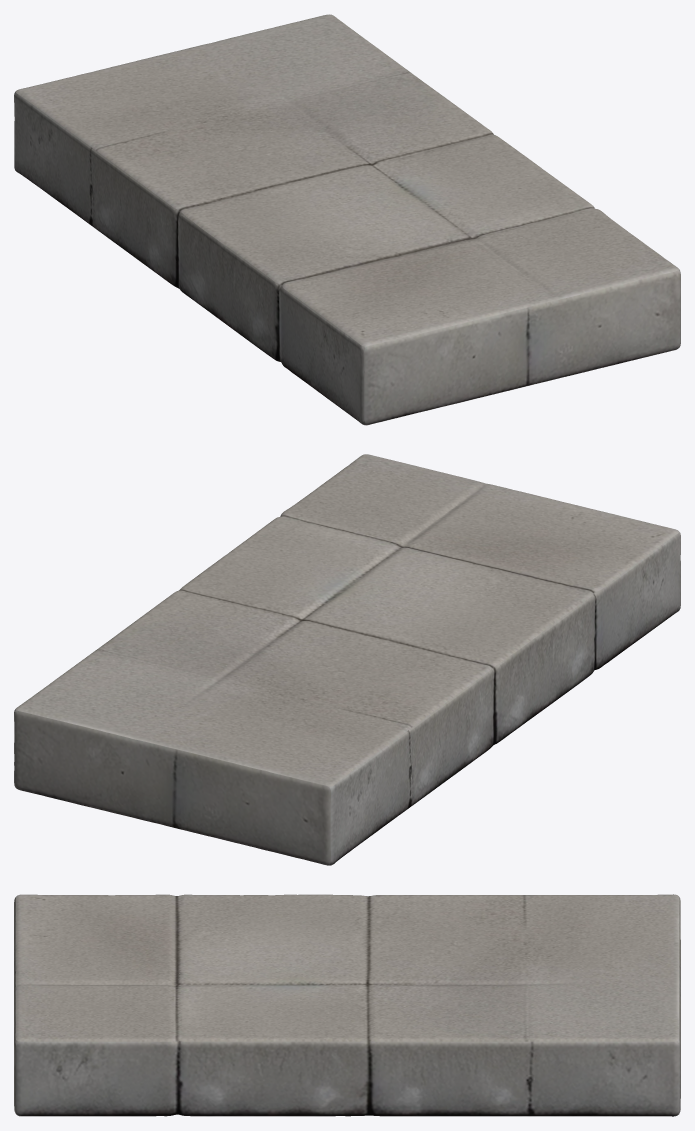
File: approach-stone-3-generated-2026-05-15T00-25-27-710Z.high.glb
3 views of the same model, one above another, from view 1: azimuth 30°, elevation 25°; view 2: azimuth 150°, elevation 25°; view 3: azimuth 270°, elevation 25° (orthographic). The views are drawn at different scales.
Visible parts, largest first — view 1: temp_mesh.ply; view 2: temp_mesh.ply; view 3: temp_mesh.ply.
Boxes of the visible parts, box(x1,y1,x2,y2) form: temp_mesh.ply: box(14, 14, 680, 425); temp_mesh.ply: box(14, 454, 680, 865); temp_mesh.ply: box(14, 894, 680, 1116).
Size of the model in its own units: 1.04 by 0.2545 by 1.97.
1 material, 1 textured.
